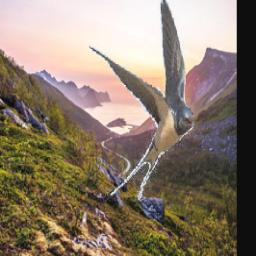Swallow: (85, 0, 194, 205)
